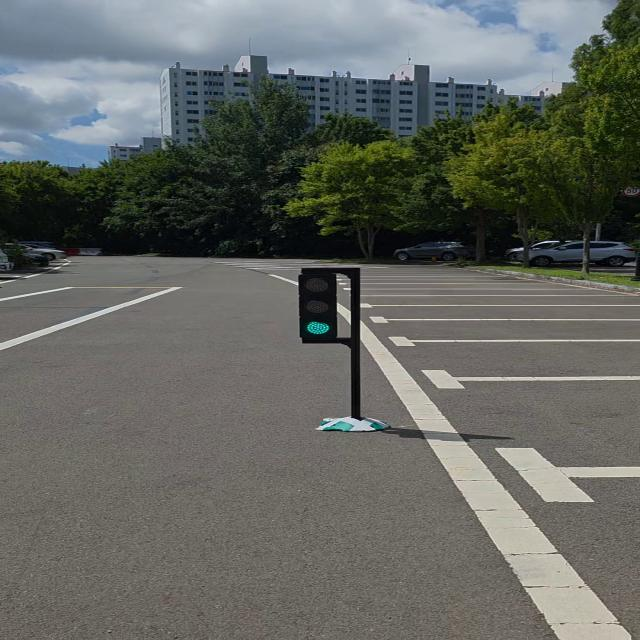green: (296, 271, 341, 344)
